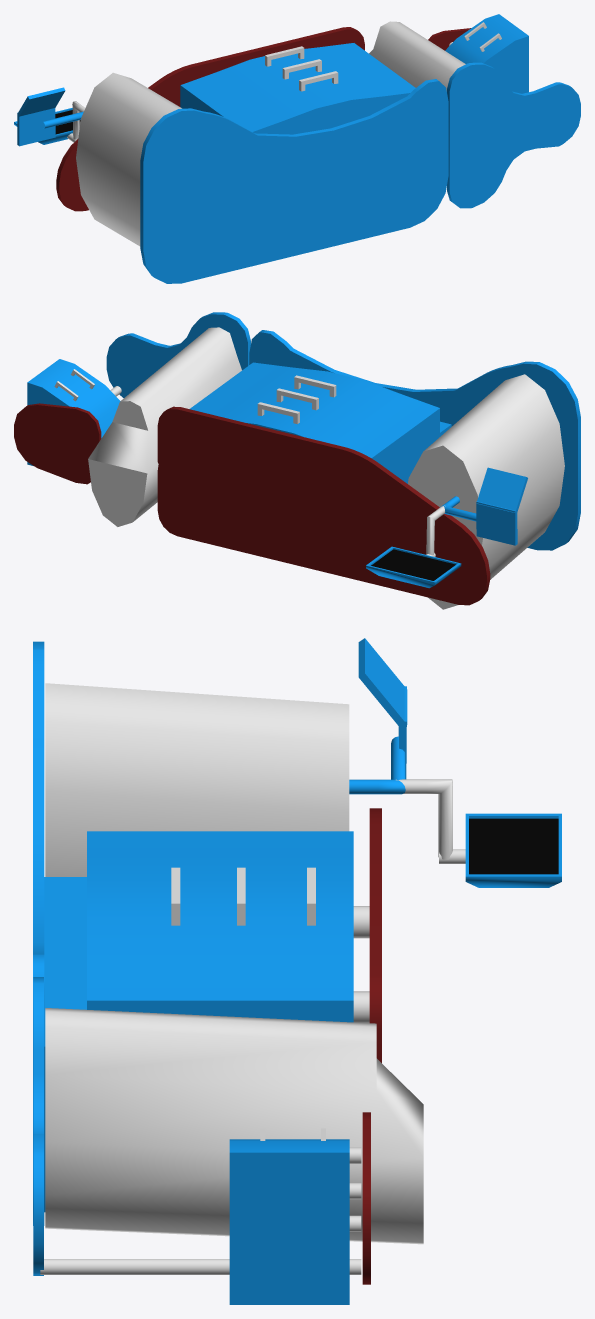
3 views of the same model, one above another, from view 1: azimuth 30°, elevation 25°; view 2: azimuth 150°, elevation 25°; view 3: azimuth 270°, elevation 25° (orthographic). The views are drawn at different scales.
Visible parts, largest first — view 1: Cube.001; view 2: Cube.001; view 3: Cube.001.
Part boxes in pixels (x1,y1,x2,y2): Cube.001: (14, 14, 580, 283); Cube.001: (14, 312, 580, 609); Cube.001: (33, 638, 561, 1304).
Size of the model in its own units: 155 by 54.68 by 75.07.
